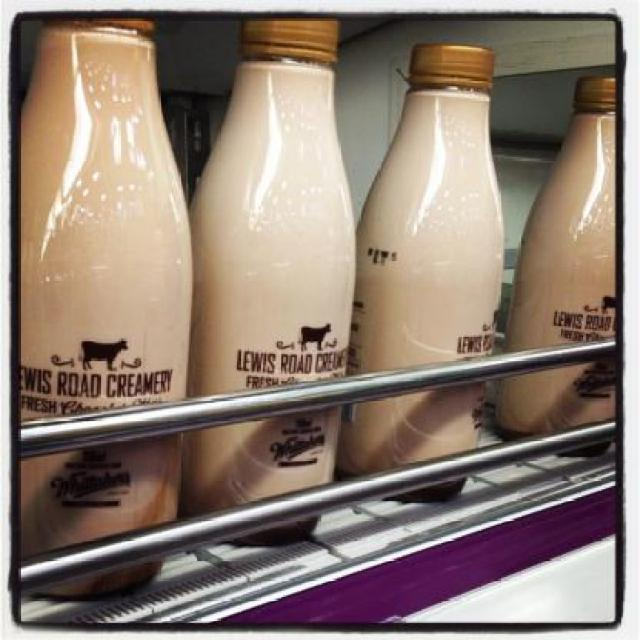Milk: (15, 31, 194, 610), (188, 59, 354, 552), (361, 43, 514, 412), (502, 110, 620, 458)
